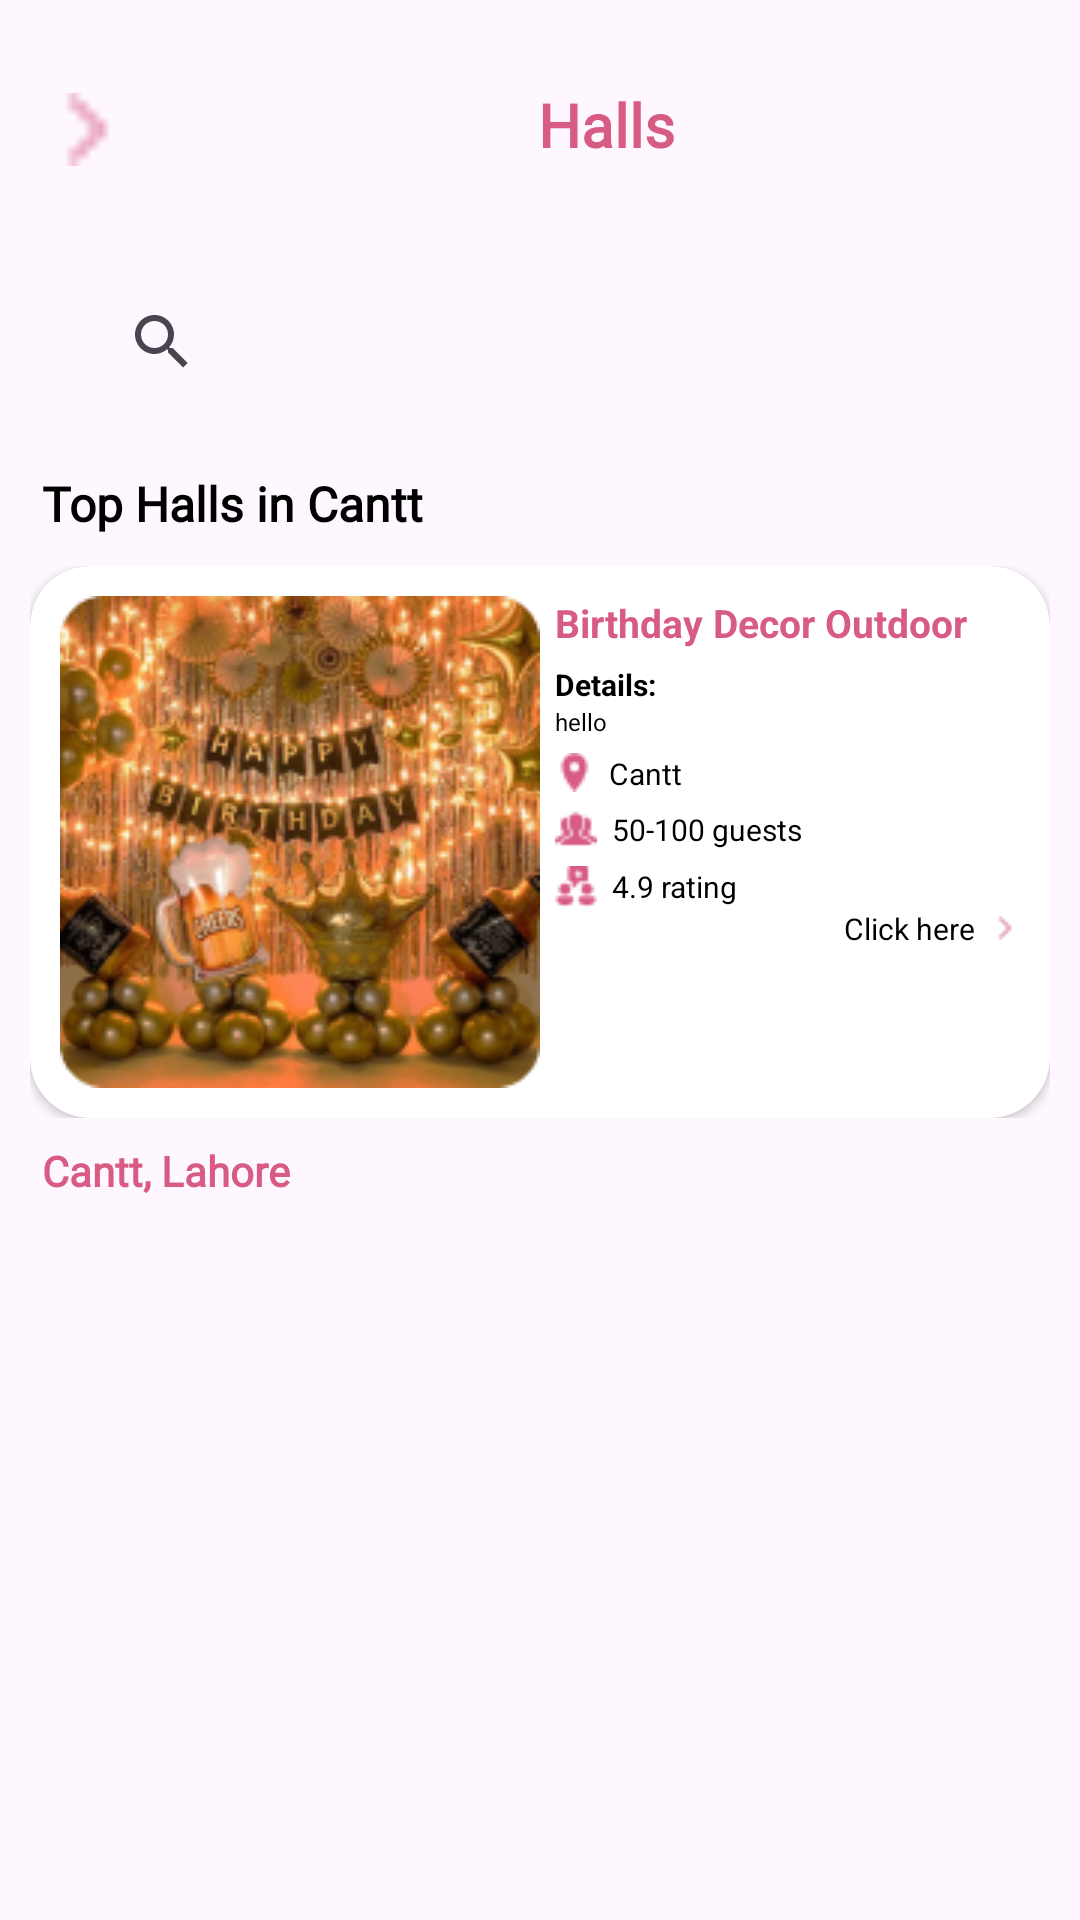

Icon bounding boxes for this 1080*1920 phone screenshot, format Rect(x1, y1, x2, y2):
forward: Rect(68, 93, 107, 166), Rect(999, 916, 1012, 940)
location: Rect(560, 753, 589, 792)
people: Rect(555, 811, 597, 846)
